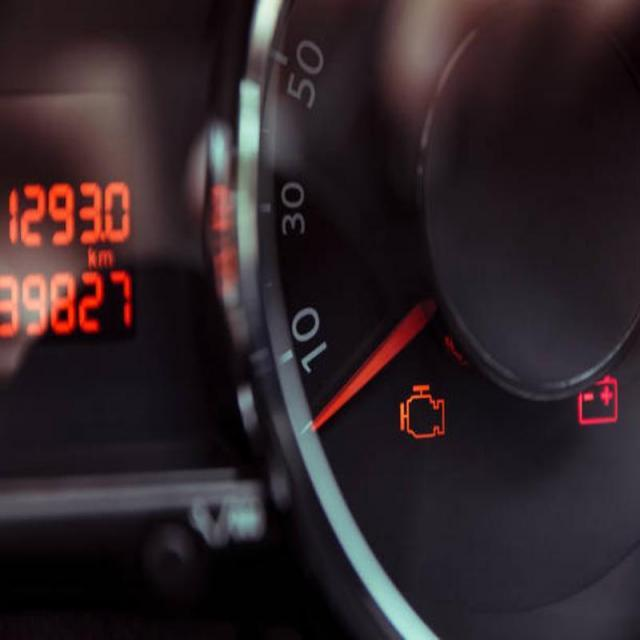EngineWarning: (398, 383, 446, 438)
